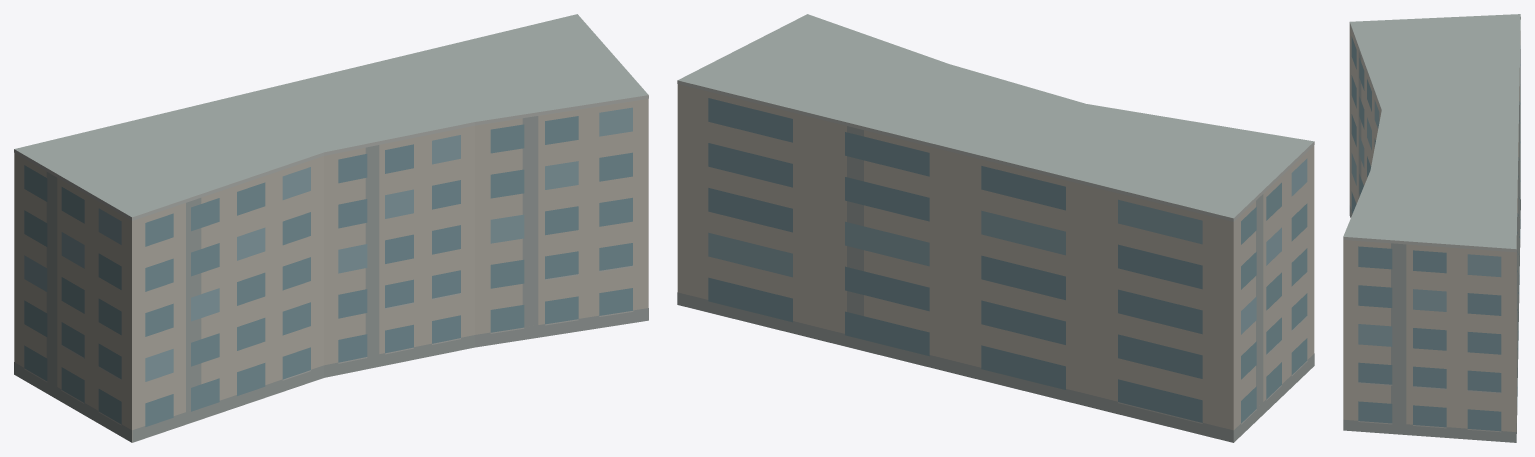
The model's file is survey-upis-32771061.glb.
3 renders of one model, left to right at view 1: azimuth 30°, elevation 25°; view 2: azimuth 150°, elevation 25°; view 3: azimuth 270°, elevation 25°, orthographic. The views are drawn at different scales.
Visible parts, largest first — view 1: survey-upis-32771061.tmp; view 2: survey-upis-32771061.tmp; view 3: survey-upis-32771061.tmp.
Part boxes in pixels (bbox=[...]): survey-upis-32771061.tmp: bbox=[14, 14, 648, 442]; survey-upis-32771061.tmp: bbox=[677, 14, 1314, 442]; survey-upis-32771061.tmp: bbox=[1343, 14, 1520, 442].
Bounding box in the file's own units: 39.71 × 15.25 × 12.68.
